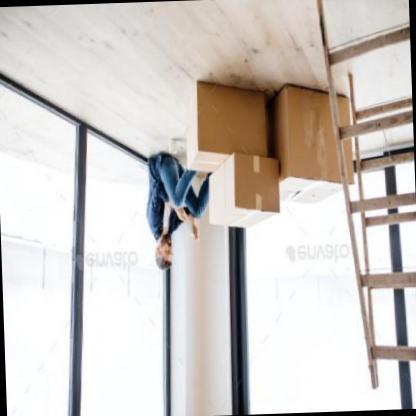box: (276, 75, 362, 205), (184, 69, 272, 169), (204, 150, 284, 231)
